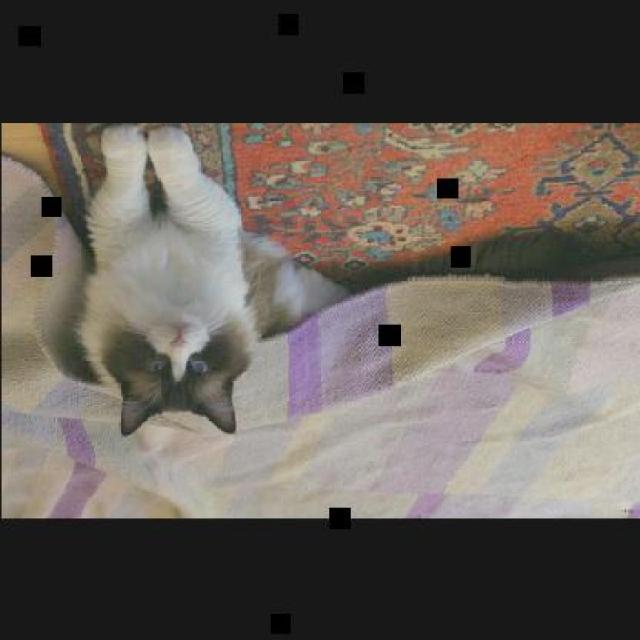unauthorized: (74, 121, 351, 437)
